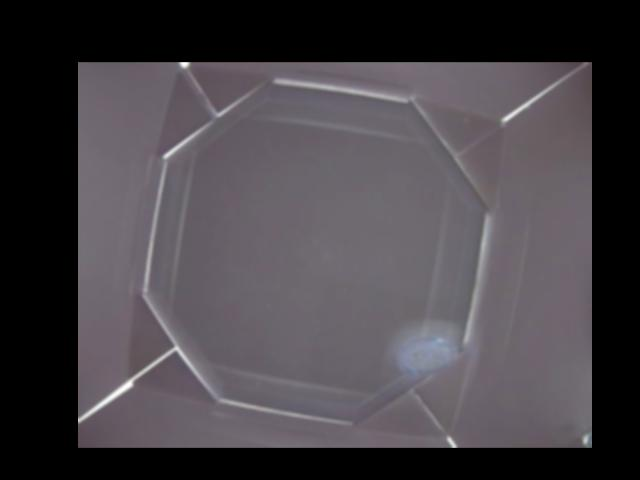Pebble: (399, 335, 457, 383)
